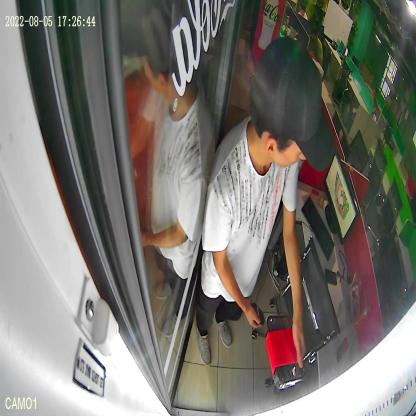red: (266, 314, 306, 390)
